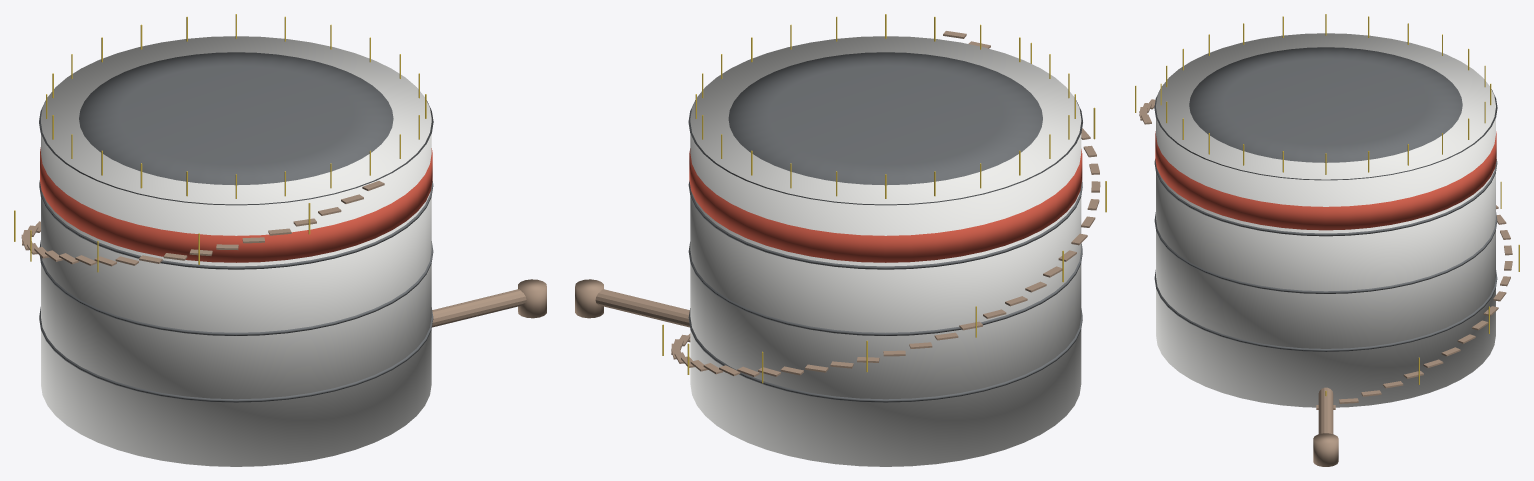
The model's file is fuel_tank.glb.
3 views of the same model, side by side, from view 1: azimuth 30°, elevation 25°; view 2: azimuth 150°, elevation 25°; view 3: azimuth 270°, elevation 25° (orthographic). The views are drawn at different scales.
Visible parts, largest first — view 1: fuel_tank; view 2: fuel_tank; view 3: fuel_tank.
Boxes of the visible parts, <box> form: fuel_tank: <box>14,14,546,466</box>; fuel_tank: <box>575,14,1106,466</box>; fuel_tank: <box>1135,14,1519,466</box>.
Bounding box in the file's own units: 23.66 × 13.1 × 18.11.
